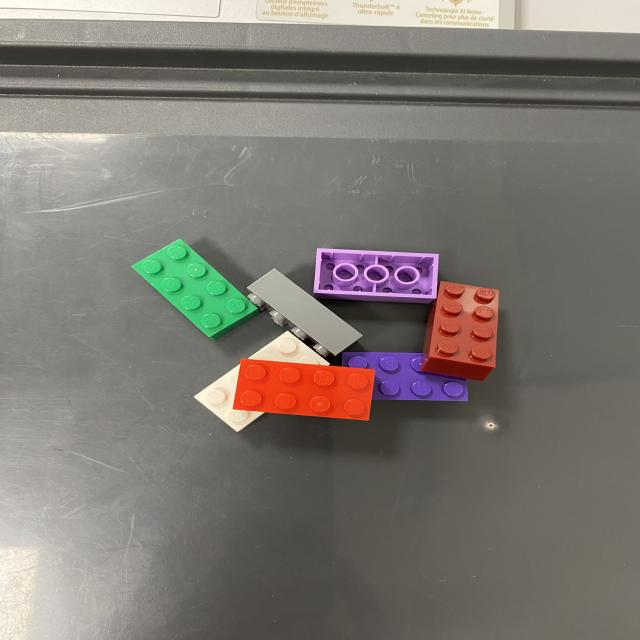C4x2x1: (129, 238, 257, 338), (248, 269, 365, 356), (234, 359, 377, 423), (429, 281, 505, 367), (314, 249, 437, 296), (425, 357, 495, 379)
